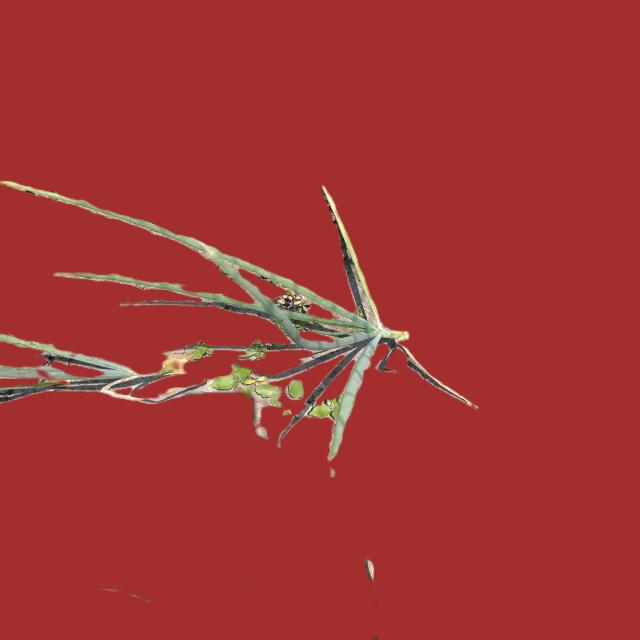weed: (125, 210, 455, 432)
